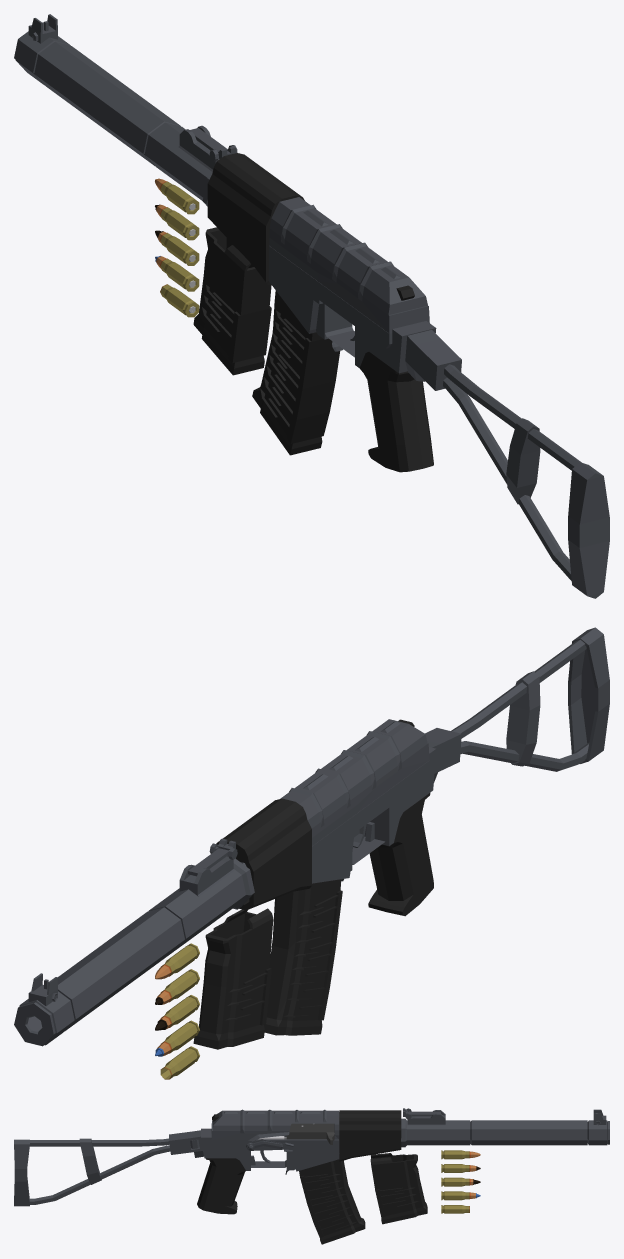
The picture shows the model from 3 angles, top to bottom: view 1: azimuth 30°, elevation 25°; view 2: azimuth 150°, elevation 25°; view 3: azimuth 270°, elevation 25°; orthographic projection. The views are drawn at different scales.
Parts seen in each view (by area): view 1: receiver, stock, suppressor, magazine_30rnd, magazine_20rnd; view 2: receiver, suppressor, stock, magazine_30rnd, magazine_20rnd, +P, normal, AP, AP+, casing; view 3: receiver, suppressor, stock, magazine_30rnd, magazine_20rnd, bolt_carrier, safety, normal, +P, AP+, AP, casing.
Boxes of the visible parts, <box> form: receiver: <box>207,153,436,472</box>; stock: <box>405,330,609,598</box>; suppressor: <box>14,14,237,206</box>; magazine_30rnd: <box>252,290,340,455</box>; magazine_20rnd: <box>193,227,271,375</box>; receiver: <box>216,719,436,916</box>; suppressor: <box>14,838,254,1046</box>; stock: <box>425,627,609,782</box>; magazine_30rnd: <box>264,879,342,1035</box>; magazine_20rnd: <box>193,908,273,1049</box>; +P: <box>155,1020,199,1056</box>; normal: <box>155,943,199,979</box>; AP: <box>155,969,199,1004</box>; AP+: <box>155,995,199,1030</box>; casing: <box>160,1046,199,1079</box>; receiver: <box>197,1109,401,1214</box>; suppressor: <box>401,1108,609,1147</box>; stock: <box>14,1130,203,1206</box>; magazine_30rnd: <box>299,1159,365,1244</box>; magazine_20rnd: <box>370,1153,427,1224</box>; bolt_carrier: <box>286,1123,334,1144</box>; safety: <box>246,1139,293,1151</box>; normal: <box>441,1150,480,1159</box>; +P: <box>441,1191,480,1200</box>; AP+: <box>441,1177,480,1186</box>; AP: <box>441,1164,480,1172</box>; casing: <box>441,1205,469,1213</box>.
Bounding box in the file's own units: 5.1 × 19.16 × 79.18.
